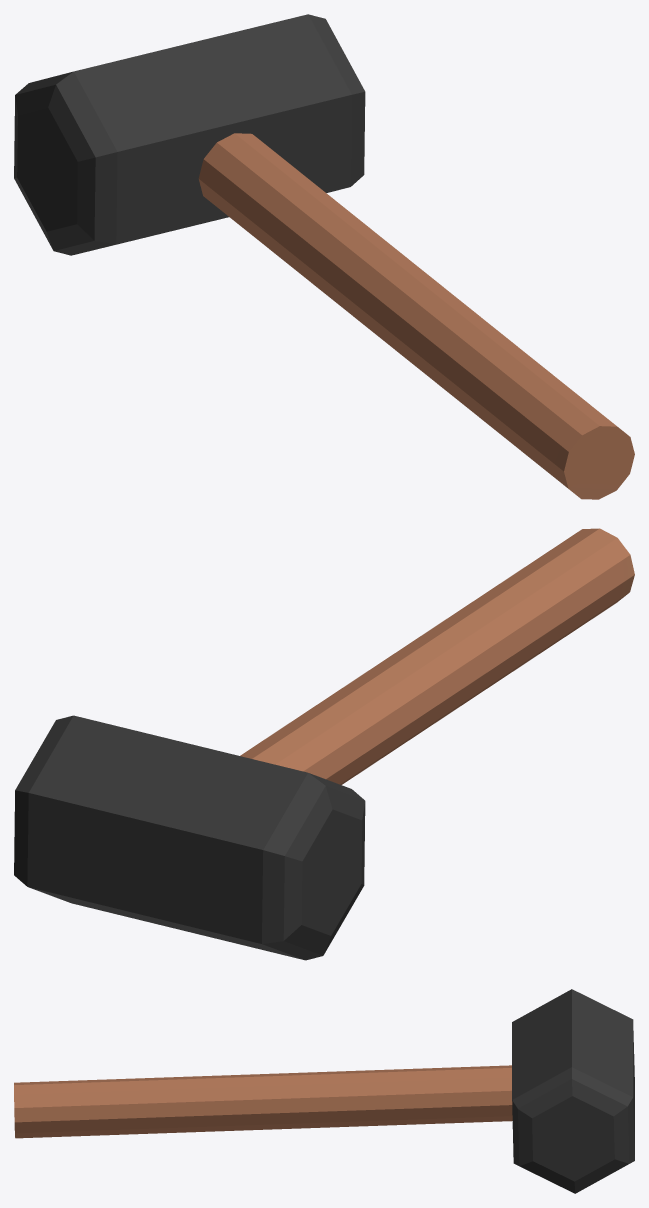
The model's file is Hammer.fbx.
3 views of the same model, one above another, from view 1: azimuth 30°, elevation 25°; view 2: azimuth 150°, elevation 25°; view 3: azimuth 270°, elevation 25° (orthographic). The views are drawn at different scales.
Visible parts, largest first — view 1: Hammer; view 2: Hammer; view 3: Hammer.
Part boxes in pixels (x1,y1,x2,y2): Hammer: (14,14,634,499); Hammer: (14,528,634,960); Hammer: (14,989,634,1193).
Size of the model in its own units: 22.79 by 14.24 by 63.17.
